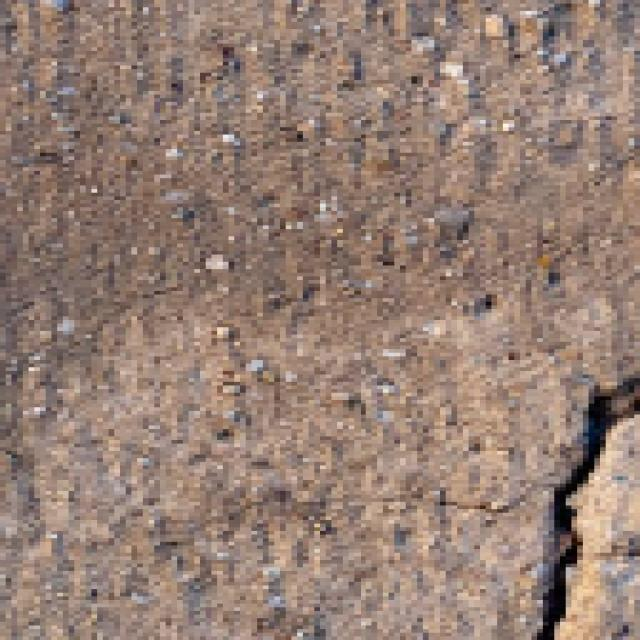vertical cracks: (537, 377, 639, 639)
